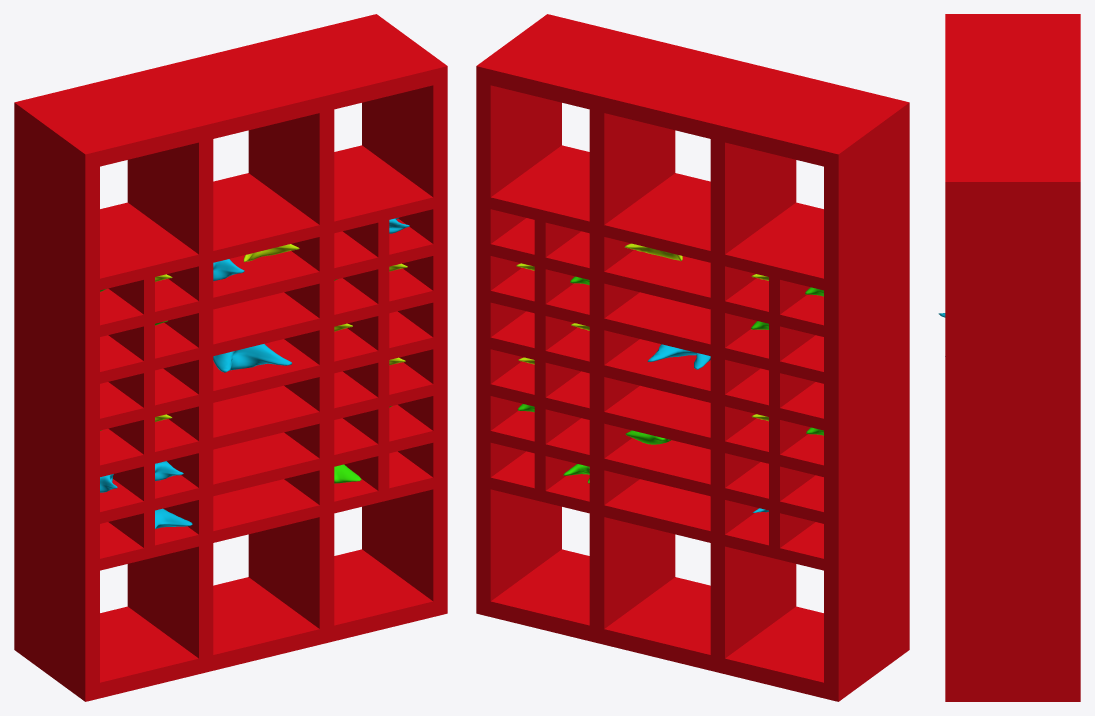
The model's file is SM_Storage_01.fbx.
3 renders of one model, left to right at view 1: azimuth 30°, elevation 25°; view 2: azimuth 150°, elevation 25°; view 3: azimuth 270°, elevation 25°, orthographic. The views are drawn at different scales.
Visible parts, largest first — view 1: SM_Stigare_01; view 2: SM_Stigare_01; view 3: SM_Stigare_01.
Boxes of the visible parts, bbox=[...] form: SM_Stigare_01: bbox=[14, 14, 447, 701]; SM_Stigare_01: bbox=[476, 14, 909, 701]; SM_Stigare_01: bbox=[938, 14, 1080, 701].
Size of the model in its own units: 193 by 278 by 68.9.
